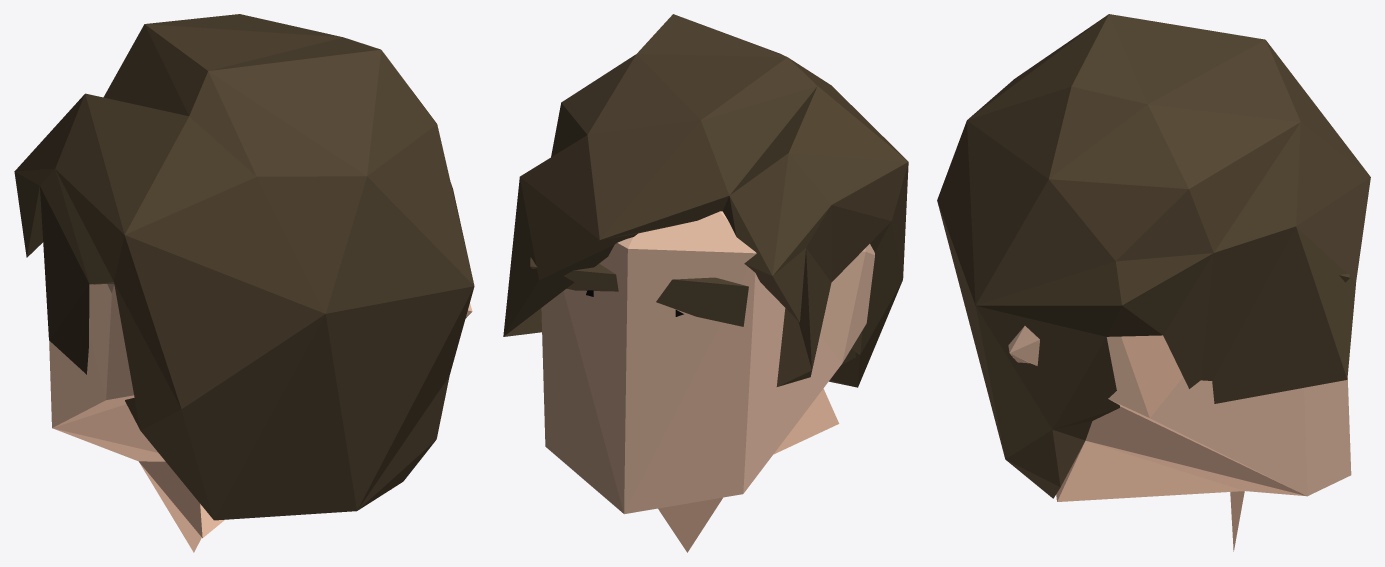
File: Head_Lo.obj
3 renders of one model, left to right at view 1: azimuth 30°, elevation 25°; view 2: azimuth 150°, elevation 25°; view 3: azimuth 270°, elevation 25°, orthographic. The views are drawn at different scales.
Bounding box in the file's own units: 0.2813 × 0.4005 × 0.3057.
1 material, 1 textured.
